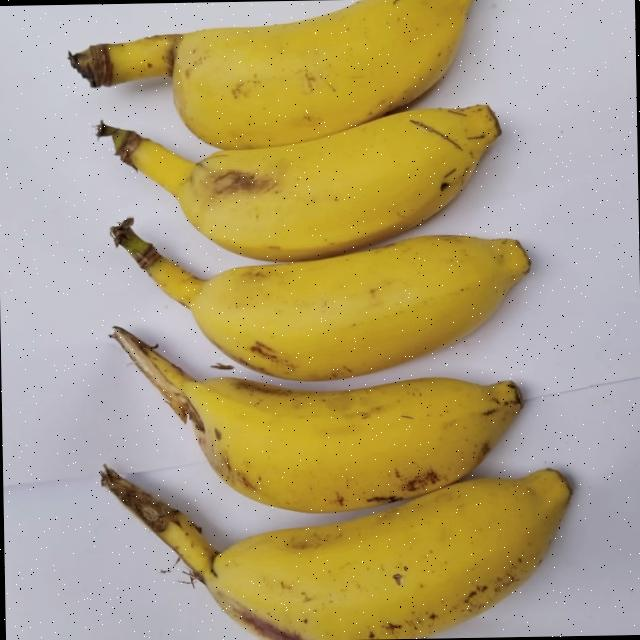banana: (28, 0, 620, 508), (111, 222, 604, 388), (58, 1, 563, 144)
